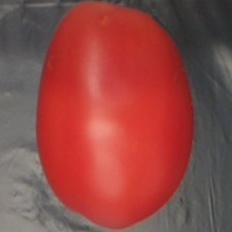unripe: (32, 0, 201, 232)
